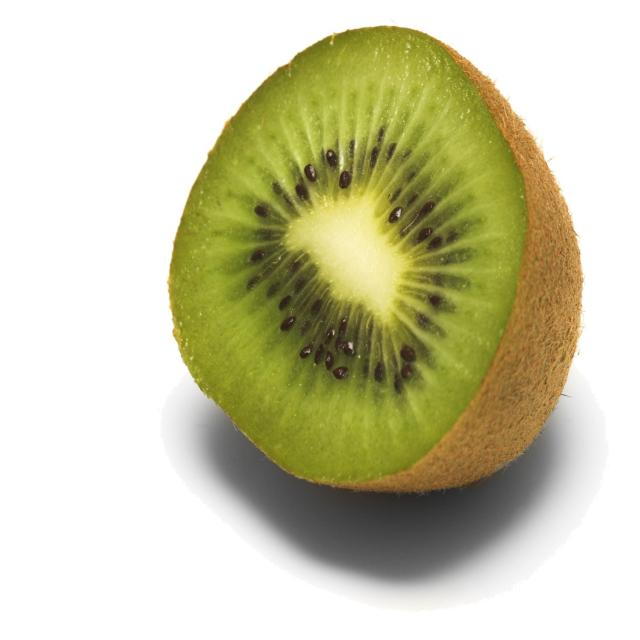kiwi: (169, 28, 581, 491)
